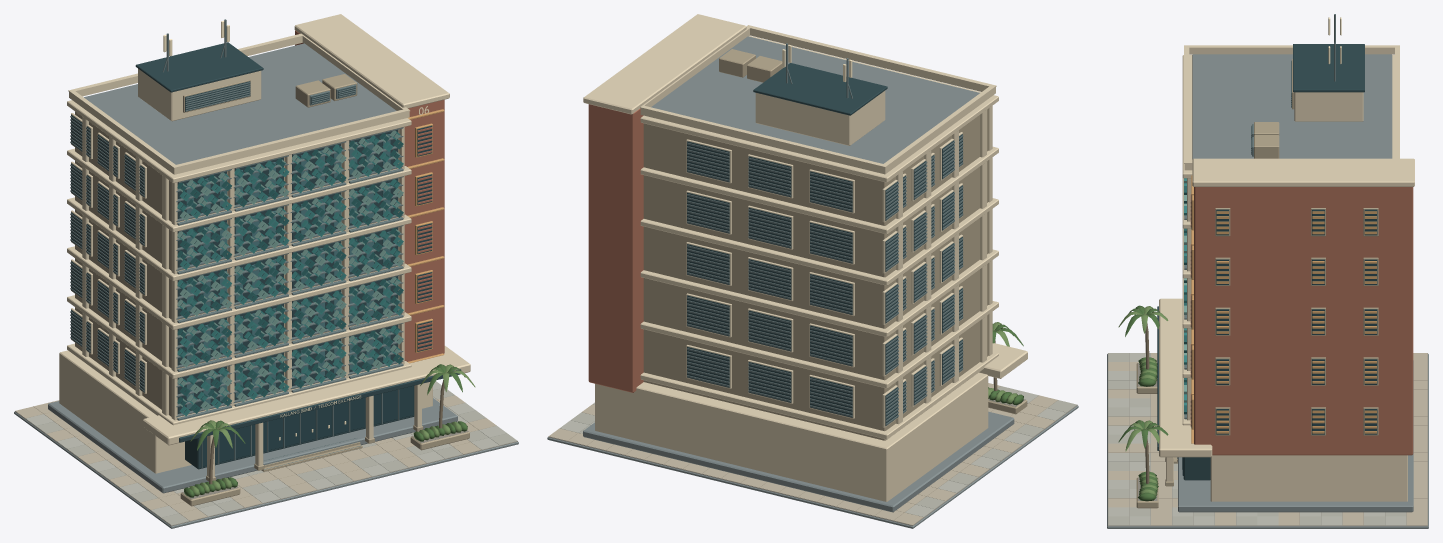
3 renders of one model, left to right at view 1: azimuth 30°, elevation 25°; view 2: azimuth 150°, elevation 25°; view 3: azimuth 270°, elevation 25°, orthographic. The views are drawn at different scales.
Visible parts, largest first — view 1: Exchange Structure, Ceramic Screen Frame, Roof Plant and Aerials, Breeze Block Diamonds, Ground Floor Podium, Exchange Footway, Mechanical Louvres, Ground Floor Glazing, Tropical Planting, Core Windows; view 2: Exchange Structure, Mechanical Louvres, Ground Floor Podium, Roof Plant and Aerials, Exchange Footway, Tropical Planting, Ceramic Screen Frame; view 3: Exchange Structure, Roof Plant and Aerials, Ground Floor Podium, Exchange Footway, Core Windows, Tropical Planting, Ceramic Screen Frame, Breeze Block Diamonds.
Boxes of the visible parts, <box> form: Exchange Structure: <box>67,14,449,425</box>; Ceramic Screen Frame: <box>171,127,404,420</box>; Roof Plant and Aerials: <box>68,19,410,174</box>; Breeze Block Diamonds: <box>177,130,403,416</box>; Ground Floor Podium: <box>48,346,470,493</box>; Exchange Footway: <box>14,381,518,528</box>; Mechanical Louvres: <box>70,113,146,393</box>; Ground Floor Glazing: <box>201,386,413,467</box>; Tropical Planting: <box>180,364,475,506</box>; Core Windows: <box>415,123,432,352</box>; Exchange Structure: <box>583,14,998,440</box>; Mechanical Louvres: <box>686,132,963,427</box>; Ground Floor Podium: <box>583,343,1027,512</box>; Roof Plant and Aerials: <box>640,25,996,174</box>; Exchange Footway: <box>547,383,1078,528</box>; Tropical Planting: <box>988,322,1027,414</box>; Ceramic Screen Frame: <box>988,106,992,355</box>; Exchange Structure: <box>1182,55,1414,455</box>; Roof Plant and Aerials: <box>1184,14,1399,170</box>; Ground Floor Podium: <box>1157,298,1413,512</box>; Exchange Footway: <box>1107,353,1428,528</box>; Core Windows: <box>1190,194,1378,435</box>; Tropical Planting: <box>1118,305,1168,508</box>; Ceramic Screen Frame: <box>1184,178,1191,420</box>; Breeze Block Diamonds: <box>1184,178,1186,414</box>.
Bounding box in the file's own units: 25.5 × 27.12 × 20.
